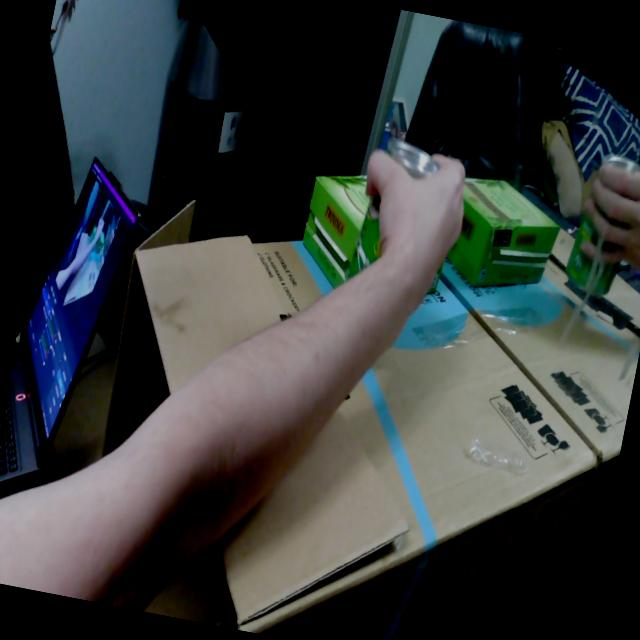nestle_milo_tin: (345, 195, 381, 282), (385, 138, 440, 179)
twinings_greentea_box: (303, 176, 371, 289), (427, 265, 443, 293)
